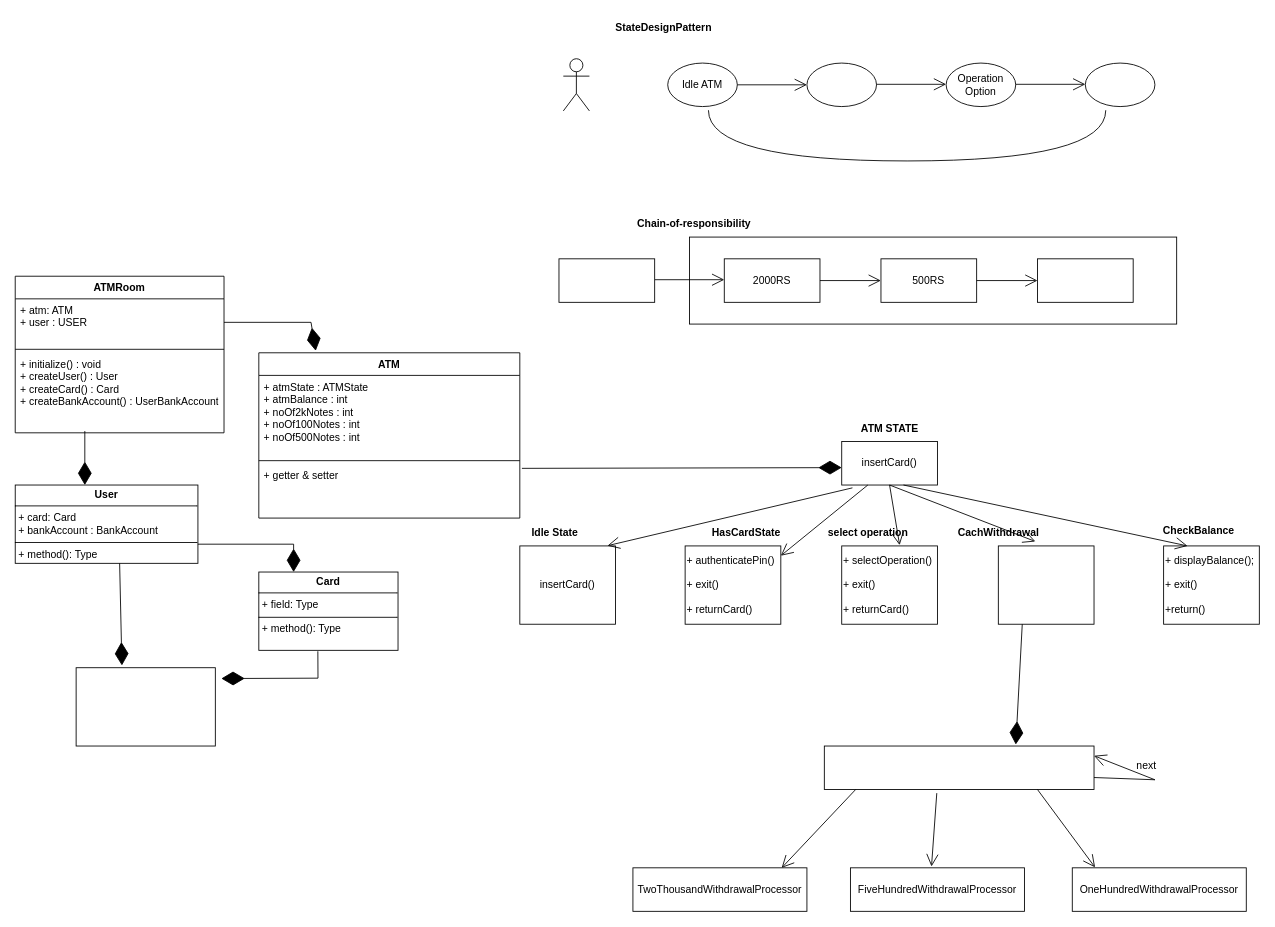
The diagram is 1275 pixels wide and 927 high, and some of its shapes have lost their labels. The shapes that lost their labels are listed below. From the top down, each one's centre as x and y in pixels, then its label:
At (x=575, y=84): "User".
At (x=841, y=84): "Has Card".
At (x=1119, y=84): "Perform Operation".
At (x=606, y=280): "Request".
At (x=1085, y=280): "100RS".
At (x=1045, y=584): "+ cashWithdraw() + exit() + returnCard()".
At (x=145, y=706): "BankAccount + field: Type + method(): Type".
At (x=958, y=767): "CashWithdrawalProcessor".
